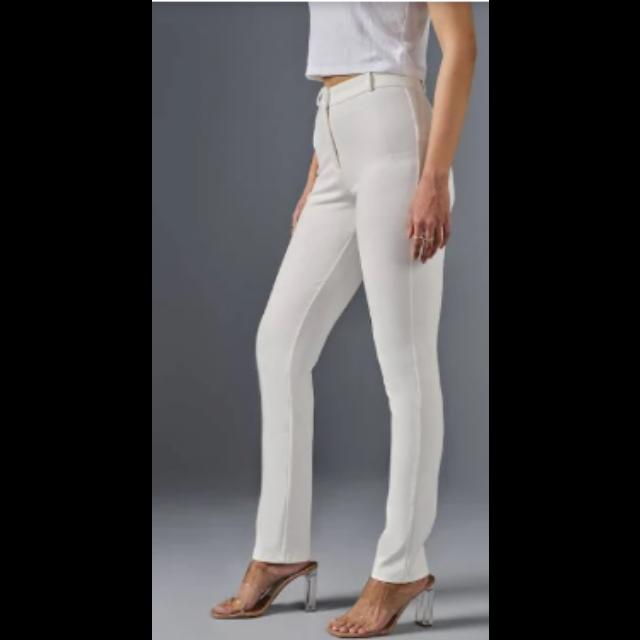bottom: (256, 77, 438, 581)
